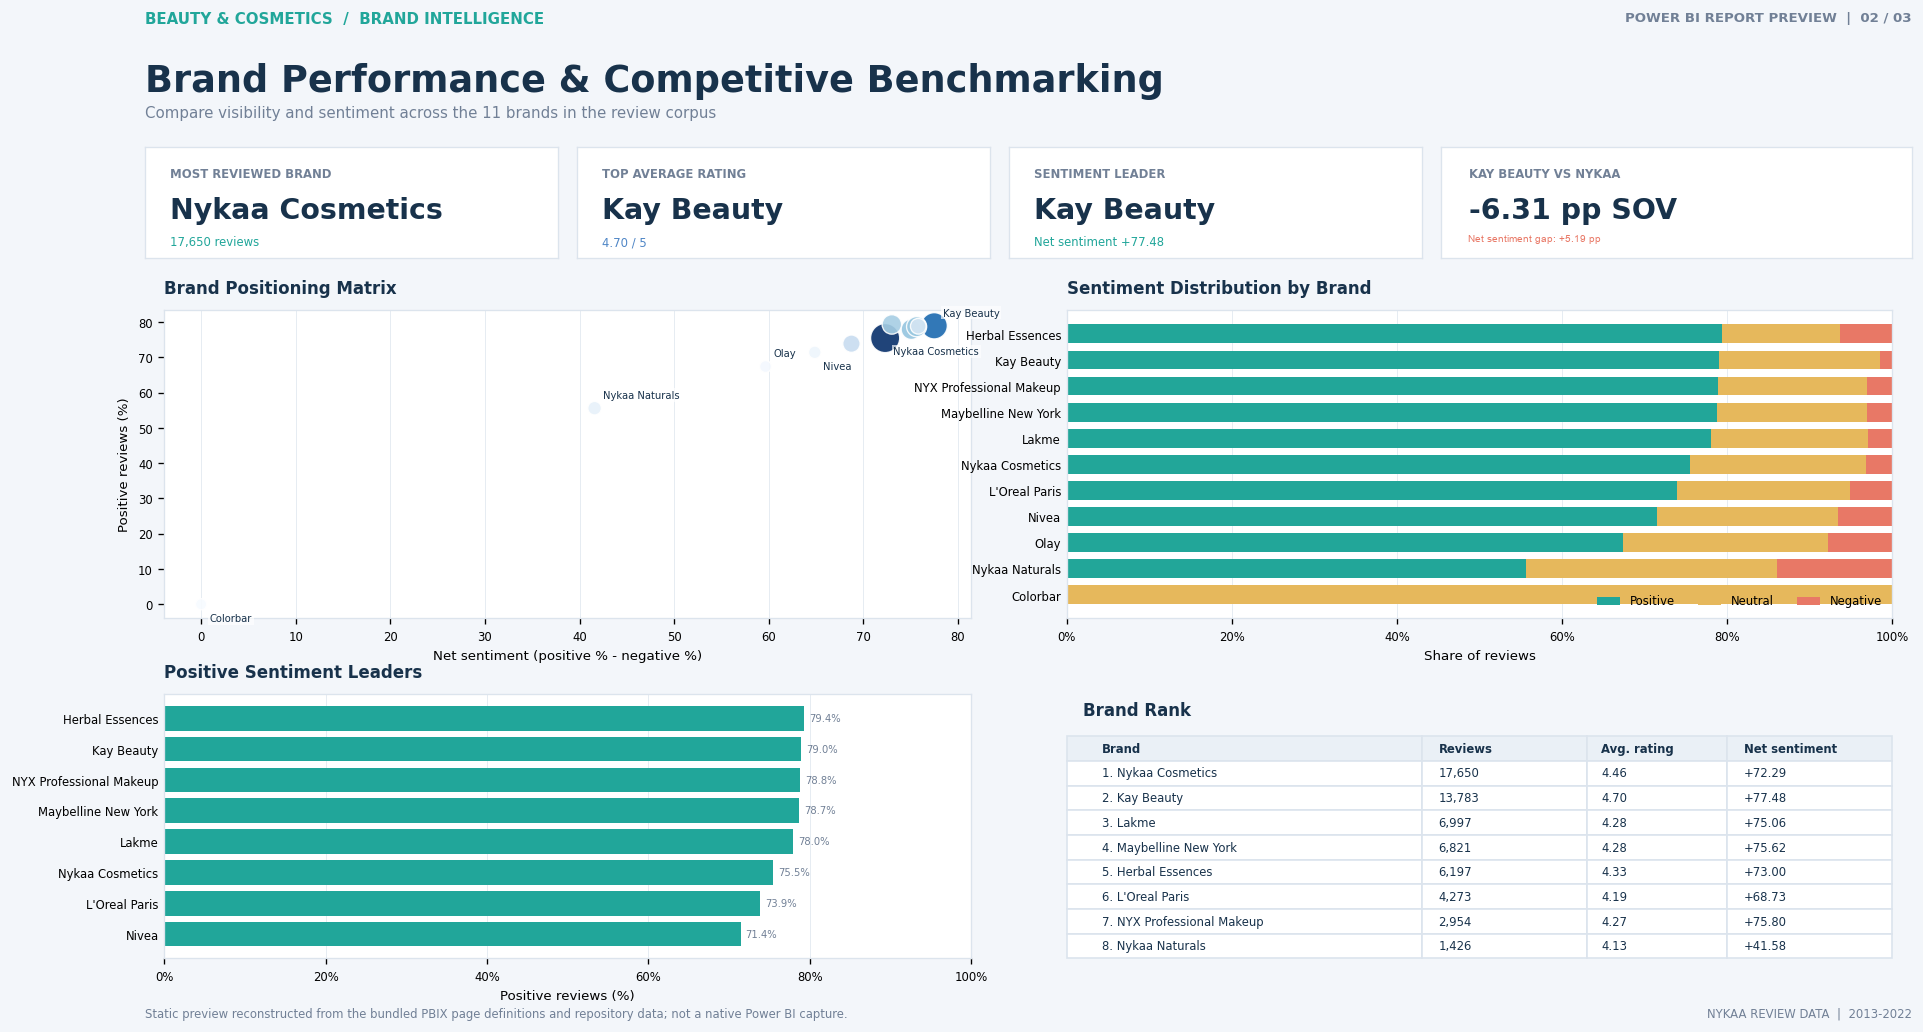

This screenshot's page, from the dashboard's own definition file:
{"tool":"powerbi","page":{"name":"Brand Performance & Competitive Bench Marking","canvas":[1280,720],"ordinal":1},"visuals":[{"type":"shape","box":[1040,224,240,96],"z":0},{"type":"shape","box":[160,0,880,112],"z":1000},{"type":"textbox","box":[192,16,800,80],"z":2000},{"type":"image","box":[32,0,128,112],"z":3000},{"type":"shape","box":[464,112,448,304],"z":4000},{"type":"shape","box":[0,112,464,304],"z":5000},{"type":"scatterChart","title":"Brand Positioning Matrix","fields":{"Category":["dim_brand.brand_name"],"X":["Measures (2).Reviews Analyzed"],"Y":["Measures (2).Average Rating"],"Size":["Measures (2).Positive Reviews"],"Series":["dim_brand.brand_name"]},"box":[16,128,432,272],"z":6000},{"type":"clusteredBarChart","title":"Positive Sentiment Leaders","fields":{"Category":["dim_brand.brand_name"],"Y":["Measures (2).Positive Reviews"]},"box":[480,128,416,272],"z":7000},{"type":"tableEx","title":"Brand Rank","fields":{"Values":["Measures (2).Brand Rank","dim_brand.brand_name","Measures (2).Average Rating","Measures (2).Reviews Analyzed","Measures (2).Positive %","Measures (2).Negative %","Measures (2).Neutral %"]},"box":[16,416,720,288],"z":8000},{"type":"shape","box":[1040,112,240,112],"z":9000},{"type":"slicer","fields":{"Values":["dim_brand.brand_name"]},"box":[1056,160,192,48],"z":10000},{"type":"slicer","fields":{"Values":["dim_date.year"]},"box":[1072,256,176,48],"z":11000},{"type":"shape","box":[1040,0,240,112],"z":12000},{"type":"slicer","fields":{"Values":["fact_customer_feedback.Rating Band"]},"box":[1056,48,192,48],"z":13000},{"type":"hundredPercentStackedBarChart","title":"Sentiment Distribution by Brand","fields":{"Category":["dim_brand.brand_name"],"Y":["Measures (2).Positive %","Measures (2).Neutral %","Measures (2).Negative %"]},"box":[752,432,528,272],"z":14000},{"type":"shape","box":[912,112,128,304],"z":15000},{"type":"lineChart","title":"Sentiment Trend","fields":{"Category":["dim_date.year"],"Y":["Measures (2).Net Sentiment"]},"box":[1040,320,240,112],"z":16000},{"type":"textbox","box":[912,128,128,272],"z":17000}]}

Visuals, with their boxes on the page's 1280x720 design canvas (x1, y1, x2, y2). These are canvas units, not pixel positions in the 1923x1032 screenshot, which may show the page scaled, cropped or inside an application window:
shape: x1=1040, y1=224, x2=1280, y2=320
shape: x1=160, y1=0, x2=1040, y2=112
textbox: x1=192, y1=16, x2=992, y2=96
image: x1=32, y1=0, x2=160, y2=112
shape: x1=464, y1=112, x2=912, y2=416
shape: x1=0, y1=112, x2=464, y2=416
"Brand Positioning Matrix" scatterChart: x1=16, y1=128, x2=448, y2=400
"Positive Sentiment Leaders" clusteredBarChart: x1=480, y1=128, x2=896, y2=400
"Brand Rank" tableEx: x1=16, y1=416, x2=736, y2=704
shape: x1=1040, y1=112, x2=1280, y2=224
slicer - dim_brand.brand_name: x1=1056, y1=160, x2=1248, y2=208
slicer - dim_date.year: x1=1072, y1=256, x2=1248, y2=304
shape: x1=1040, y1=0, x2=1280, y2=112
slicer - fact_customer_feedback.Rating Band: x1=1056, y1=48, x2=1248, y2=96
"Sentiment Distribution by Brand" hundredPercentStackedBarChart: x1=752, y1=432, x2=1280, y2=704
shape: x1=912, y1=112, x2=1040, y2=416
"Sentiment Trend" lineChart: x1=1040, y1=320, x2=1280, y2=432
textbox: x1=912, y1=128, x2=1040, y2=400
